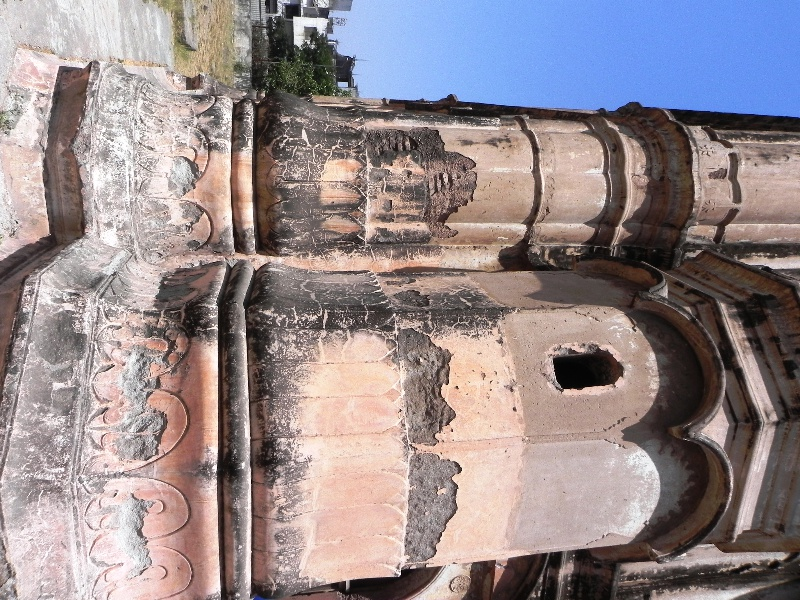Spalling: (380, 277, 464, 570), (368, 128, 479, 239), (160, 155, 200, 202)
